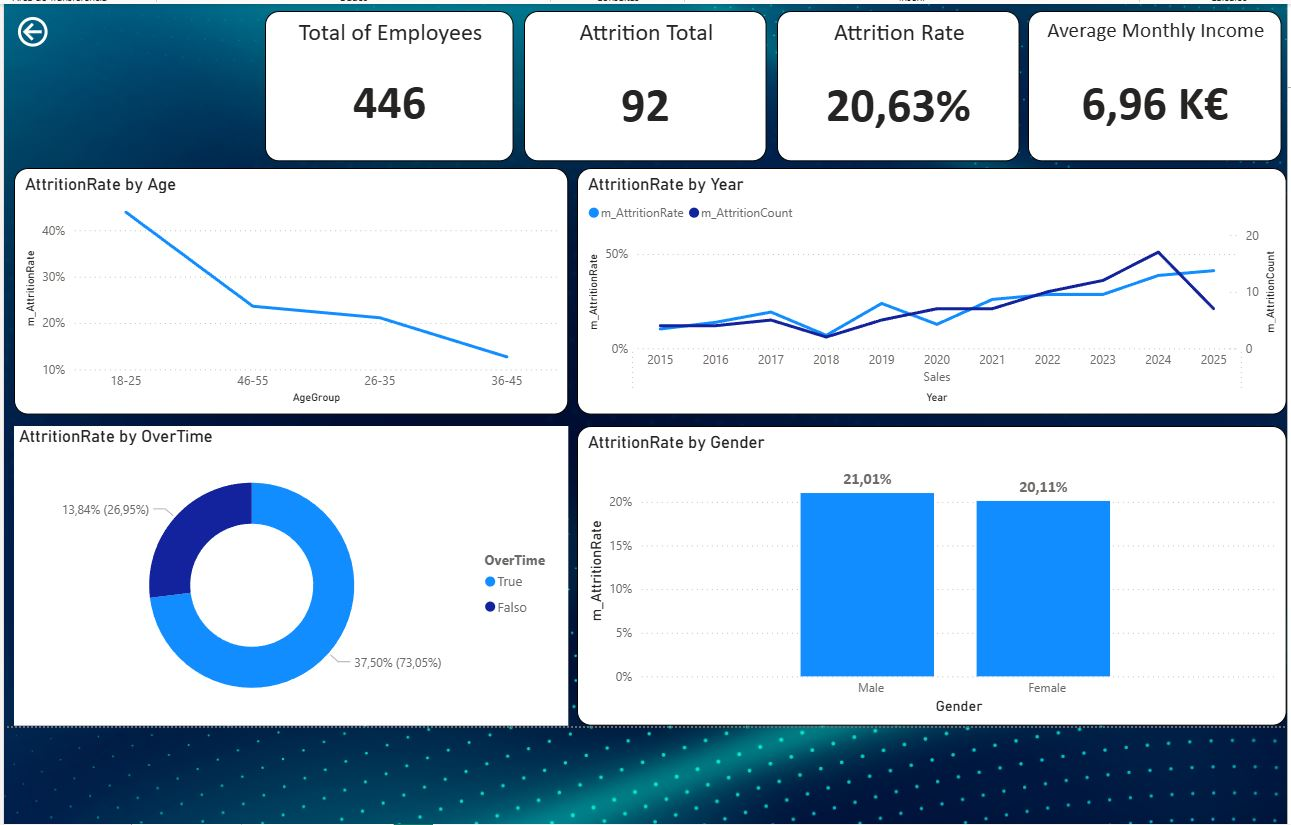

What the dashboard file says about the page in this screenshot:
{"tool":"powerbi","page":{"name":"Detalhe Department","canvas":[1280,720],"ordinal":1},"visuals":[{"type":"actionButton","box":[9.3,8.1,99.9,39.5],"z":0},{"type":"lineChart","title":"AttritionRate by Year","fields":{"Category":["DimDepartment.Department","DimDate.Year"],"Y":["MeasureKey.AttritionRate"],"Y2":["MeasureKey.AttritionCount"]},"box":[571.8,163.5,708.2,245.9],"z":1000},{"type":"columnChart","title":"AttritionRate by Gender","fields":{"Category":["DimEmployee.Gender"],"Y":["MeasureKey.AttritionRate"]},"box":[571.8,420.5,708.2,298.8],"z":2000},{"type":"lineChart","title":"AttritionRate by Age","fields":{"Category":["DimEmployee.AgeGroup"],"Y":["MeasureKey.AttritionRate"]},"box":[9.8,163.5,553.3,245.9],"z":3000},{"type":"donutChart","title":"AttritionRate by OverTime","fields":{"Y":["MeasureKey.AttritionRate"],"Category":["FactEmployee.OverTime"]},"box":[9.8,420.5,553.3,298.8],"z":4000},{"type":"card","title":"Total of Employees","fields":{"Values":["MeasureKey.TotalEmployee"]},"box":[260.7,7.4,248.4,150],"z":5000},{"type":"card","title":"Average Monthly Income","fields":{"Values":["MeasureKey.AverageMonthlyIncome"]},"box":[1021.8,7.4,253.3,150],"z":6000},{"type":"card","title":"Attrition Rate","fields":{"Values":["MeasureKey.AttritionRate"]},"box":[771,7.4,242.2,150],"z":7000},{"type":"card","title":"Attrition  Total","fields":{"Values":["MeasureKey.AttritionCount"]},"box":[518.9,7.4,242.2,150],"z":8000}]}

Visuals, with their boxes in screenshot pixels (x1, y1, x2, y2):
actionButton: crop(16, 11, 115, 51)
"AttritionRate by Year" lineChart: crop(575, 166, 1280, 411)
"AttritionRate by Gender" columnChart: crop(575, 422, 1280, 719)
"AttritionRate by Age" lineChart: crop(16, 166, 567, 411)
"AttritionRate by OverTime" donutChart: crop(16, 422, 567, 719)
"Total of Employees" card: crop(266, 11, 513, 160)
"Average Monthly Income" card: crop(1023, 11, 1275, 160)
"Attrition Rate" card: crop(774, 11, 1014, 160)
"Attrition  Total" card: crop(523, 11, 764, 160)
